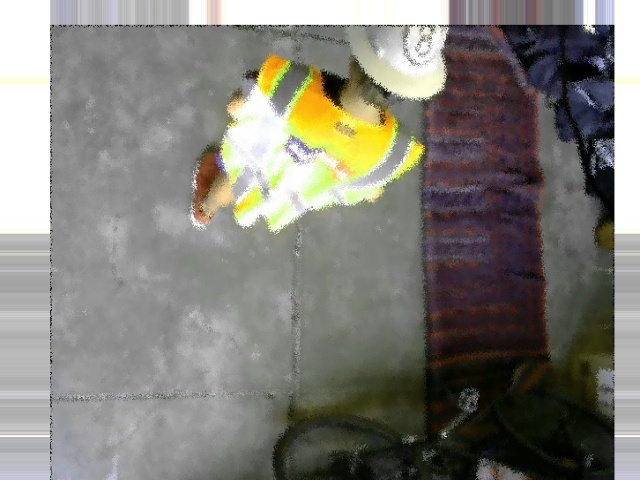eight: (402, 13, 446, 67)
